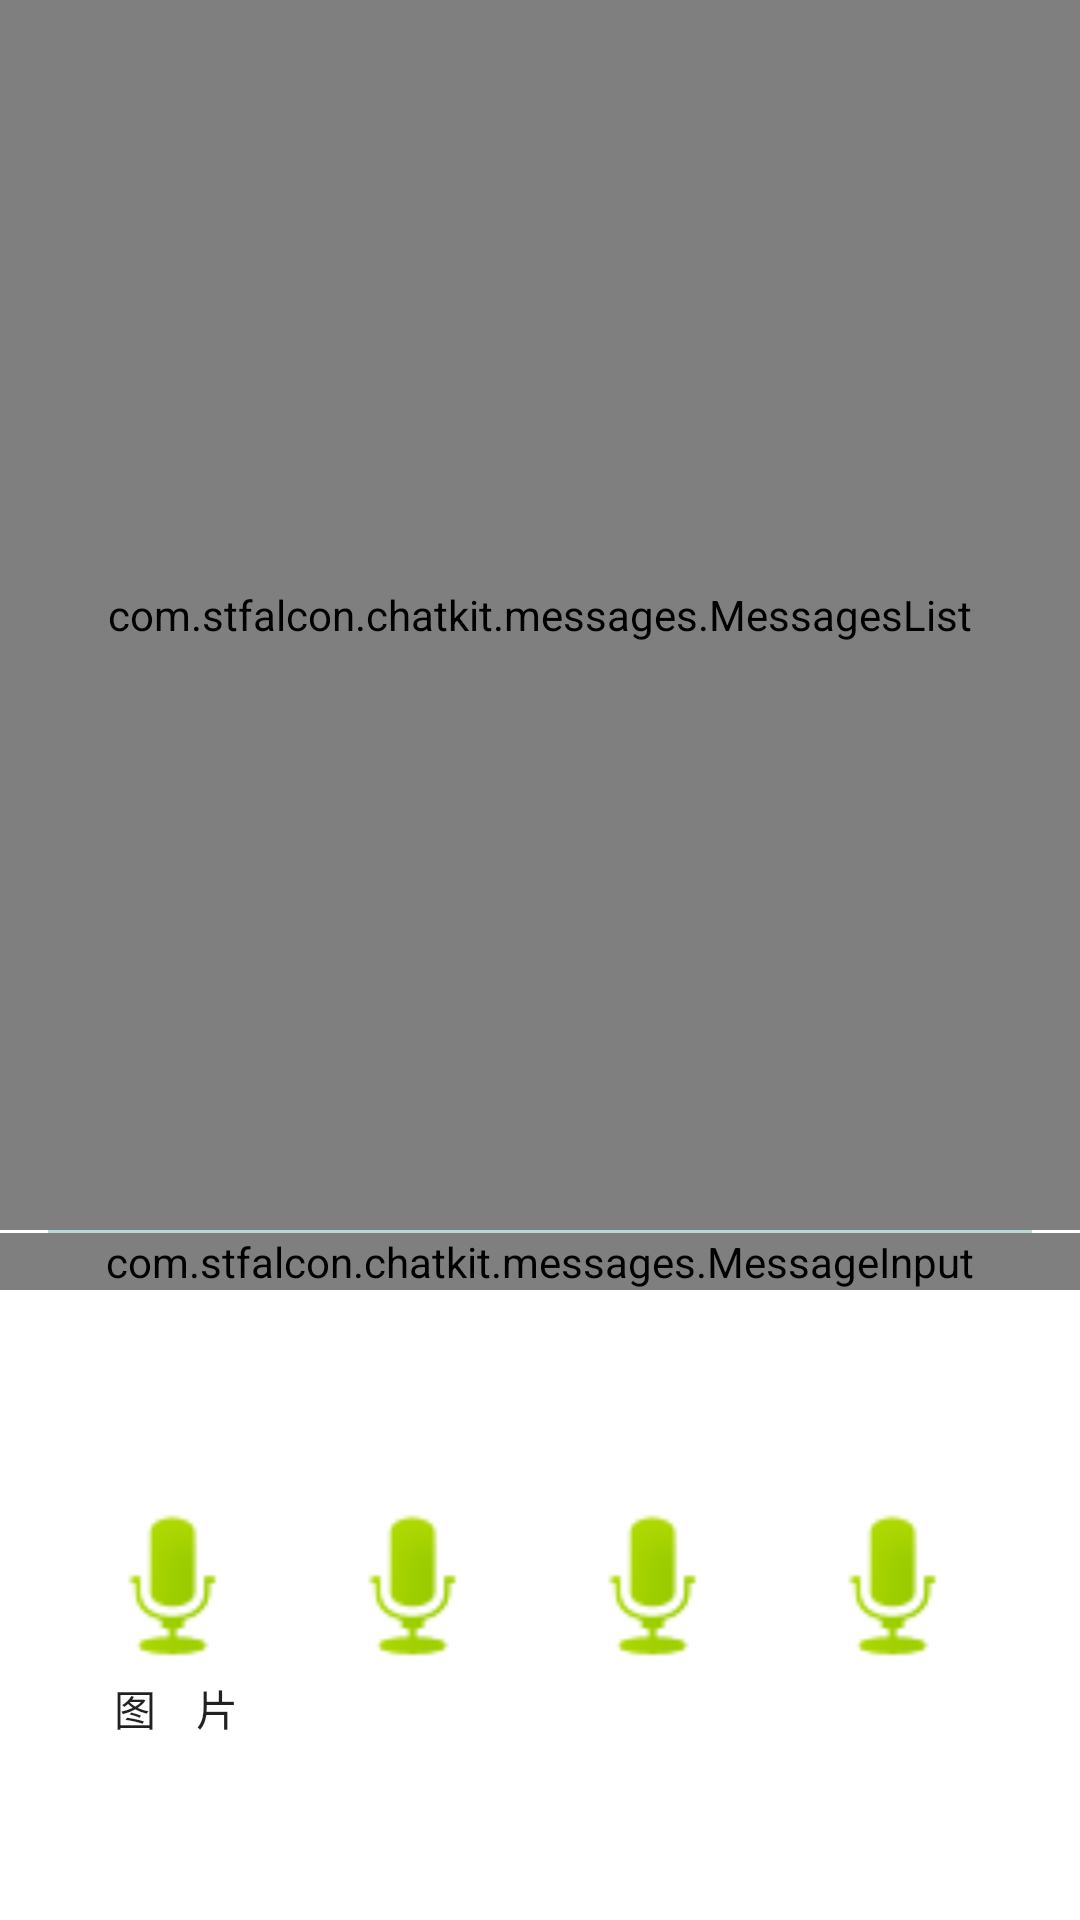

Point at icon controls on the screen. Image size 1080×1920, points as point (x, y).
presence audio online: point (172, 1585), point (412, 1585), point (652, 1585), point (892, 1585)
